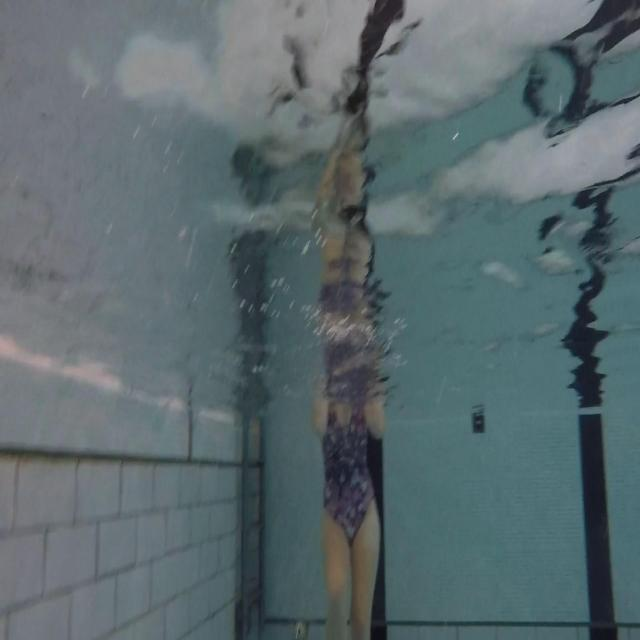human: (309, 111, 390, 638)
